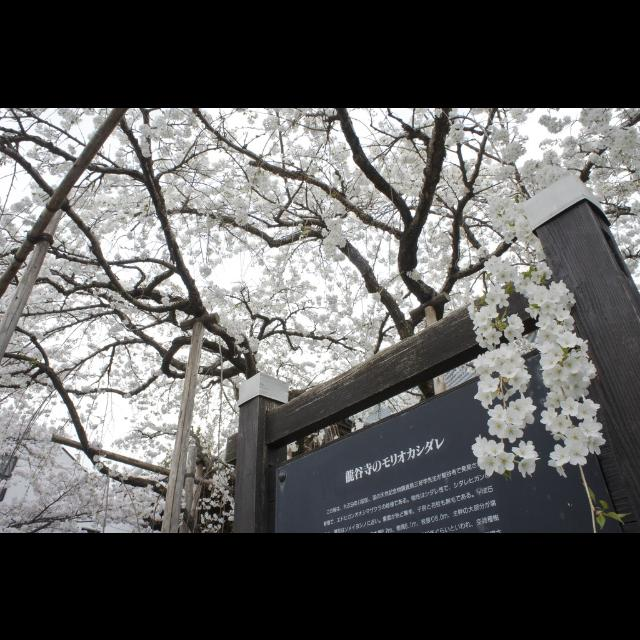Flower: (1, 108, 640, 532), (484, 434, 528, 488)
